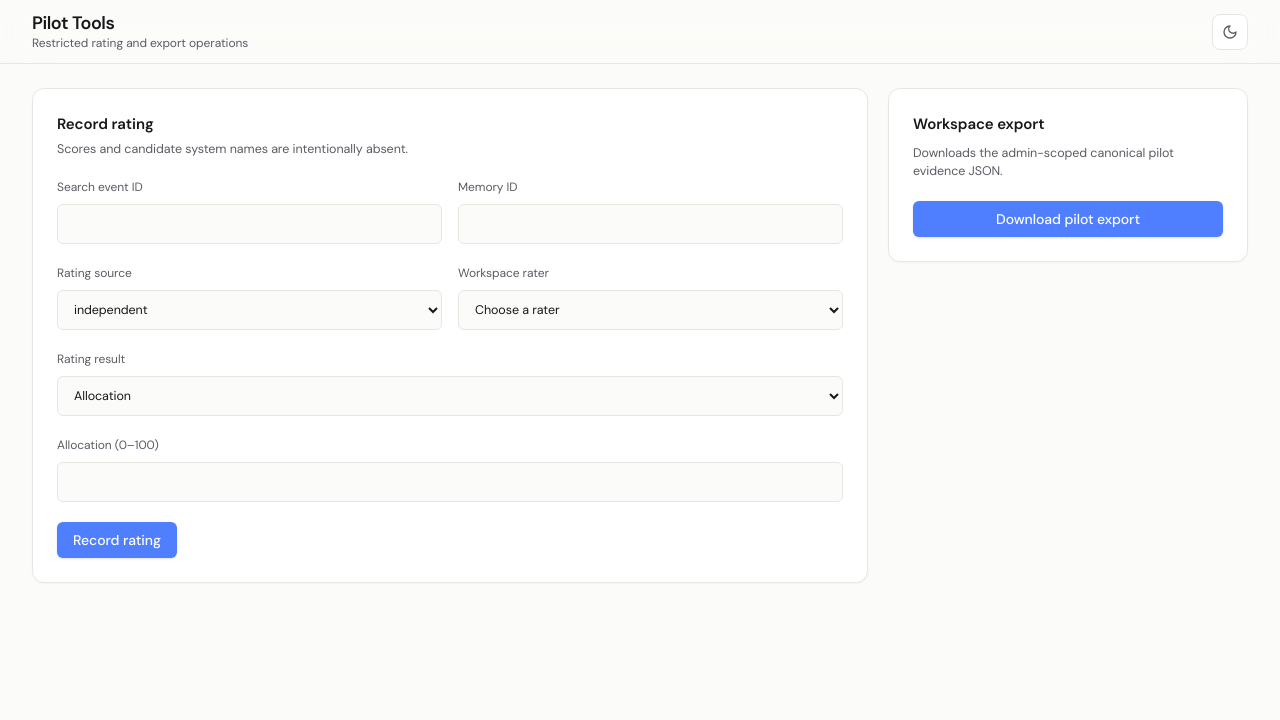
Test: validates required rating fields before sending
The image size is (1280, 720).
Check: the form with test id "pilot-rating-form" is shown, box [32, 88, 868, 583]
Click the button with test id "rating-submit" at [117, 540], box [57, 522, 177, 558]
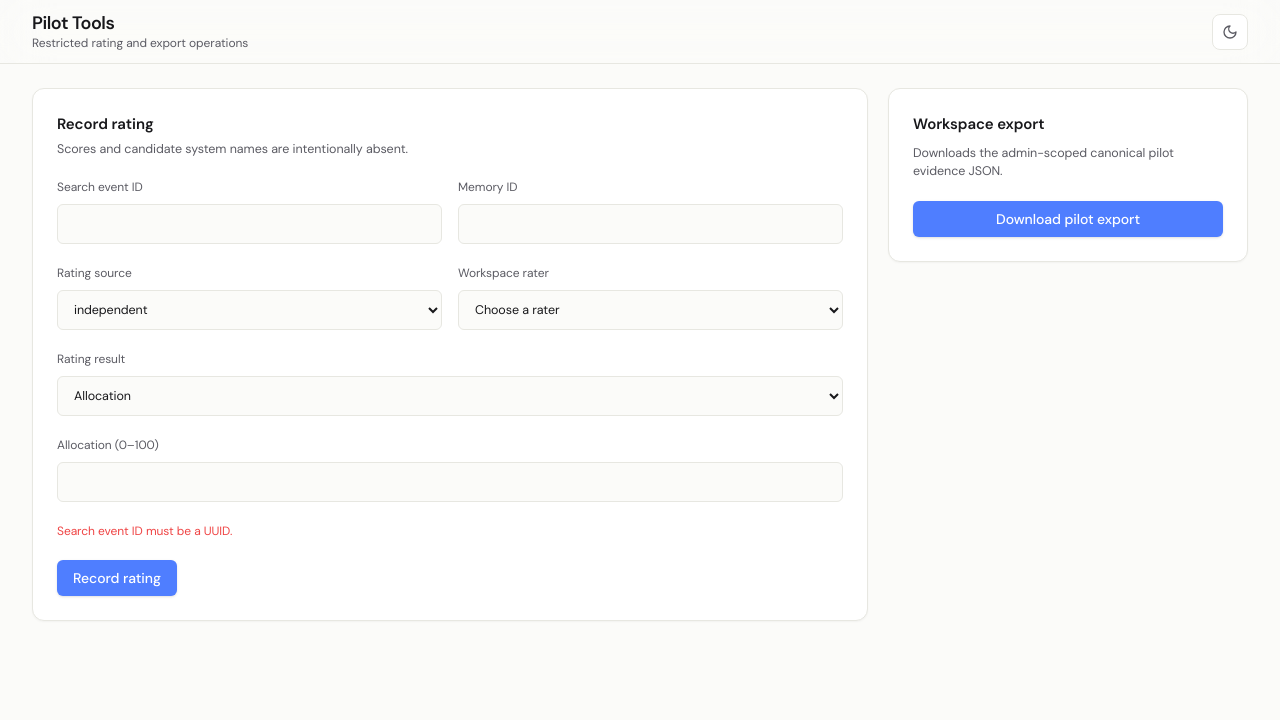
Check: the message "Search event ID must be a UUID." is shown, box [57, 523, 232, 539]
